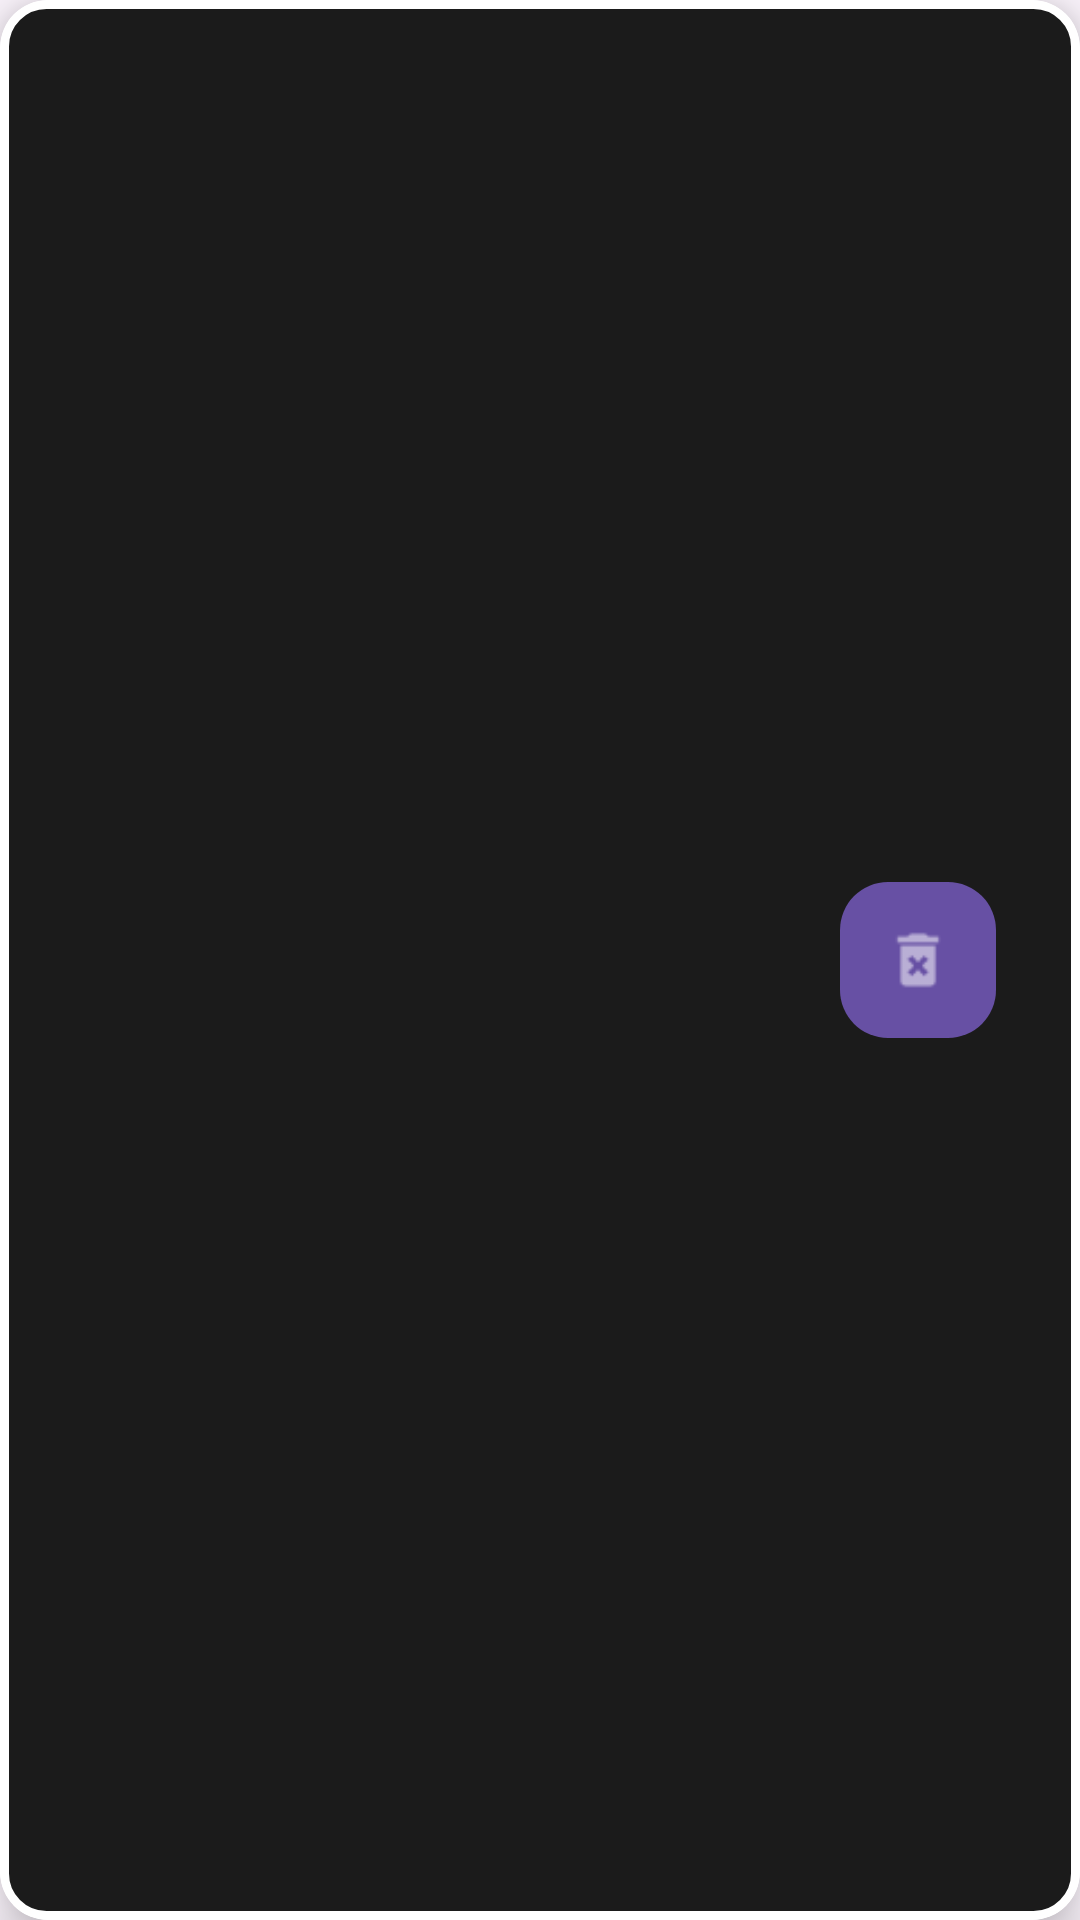

Where to tap for icons on this 1080px×1920px app screen, as (x=x, y=y):
delete: (x=918, y=960)
